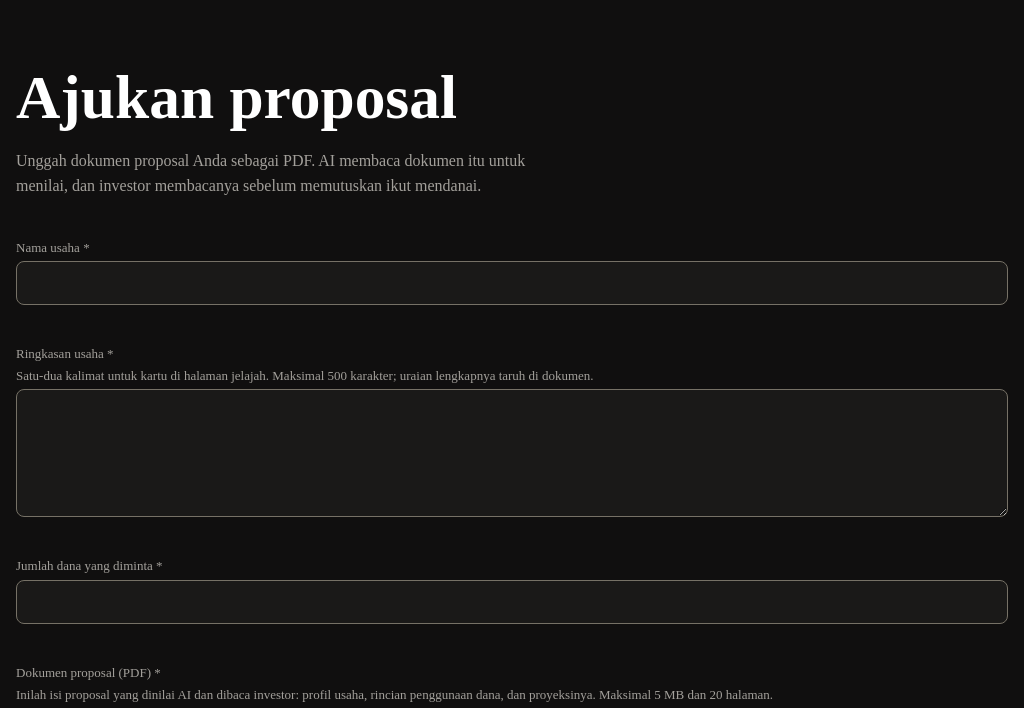
Scenario: umkm proposal submission › rejects a summary shorter than the minimum, stating how many more characters are needed
This screenshot has width=1024, height=708.
Check: the heading "Ajukan proposal" is shown, box 16,63 -> 457,131
Type "Warung Kopi Berkah" into the field labelled "Nama usaha *".
click(512, 283); type("Warung Kopi Berkah")  # box 16,261 -> 1008,305
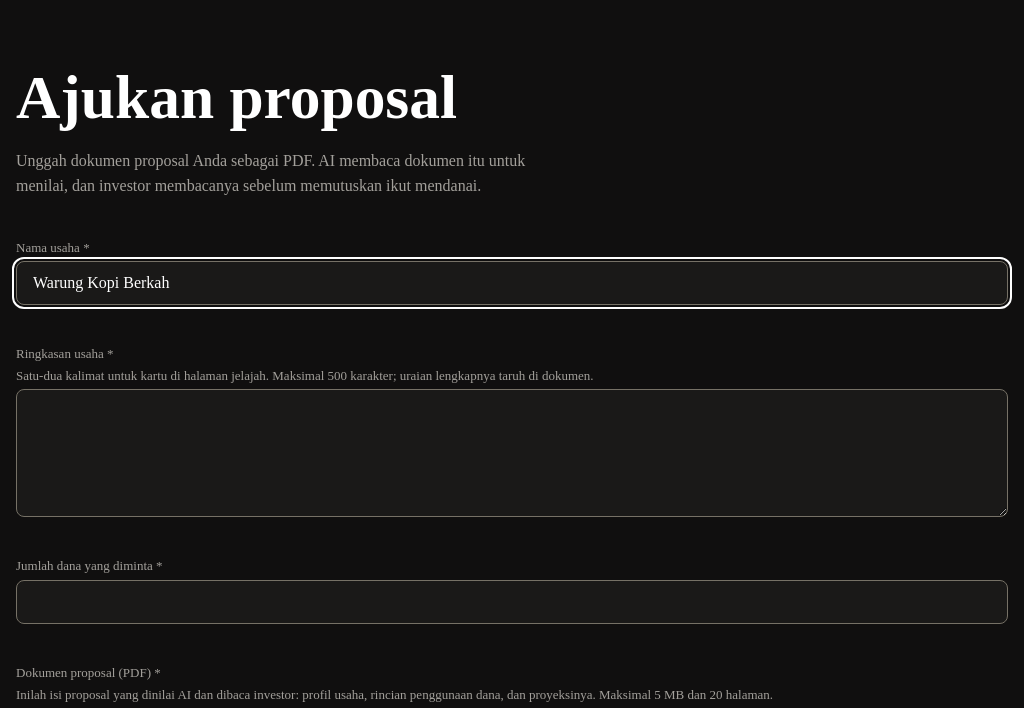
Type "warung kopi" into the text box labelled "Ringkasan usaha *".
click(512, 453); type("warung kopi")  # box 16,389 -> 1008,517
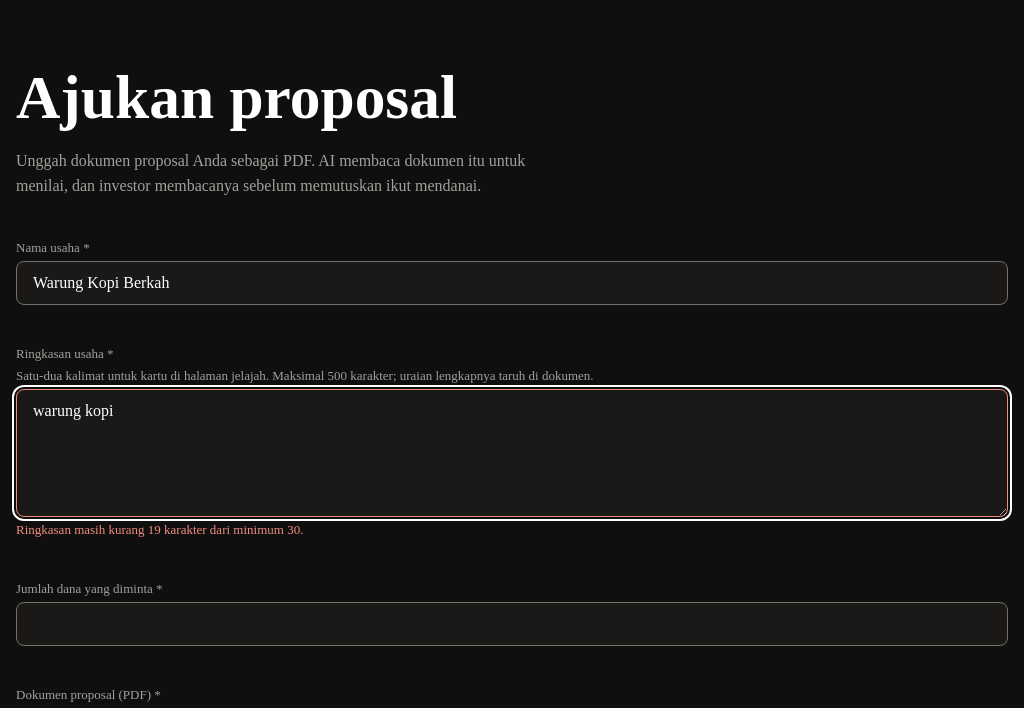
Check: the text "Ringkasan masih kurang 19 karakter dari minimum 30." is shown, box 16,522 -> 303,537
